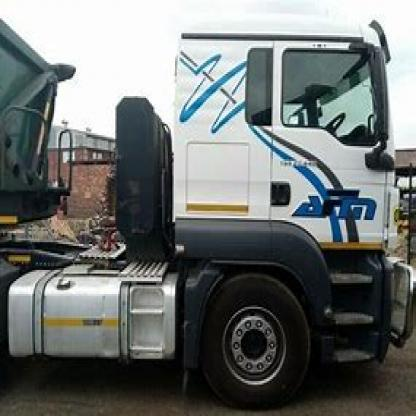dump_truck: (14, 13, 414, 407)
